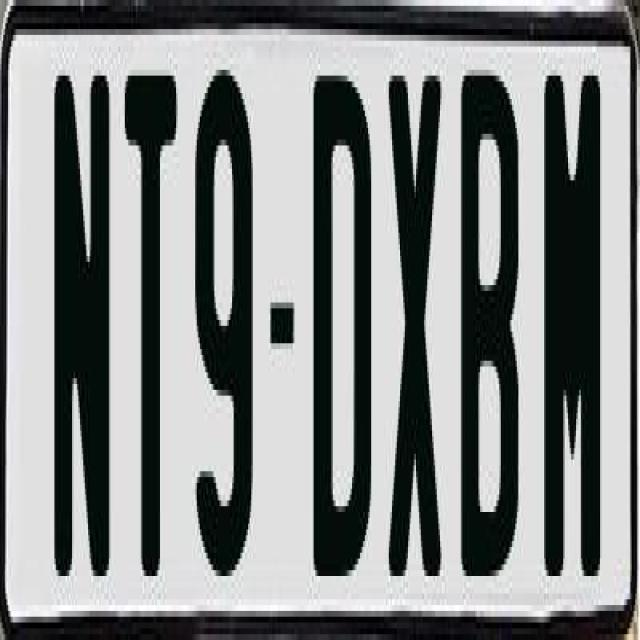9: (196, 70, 260, 606)
B: (456, 58, 515, 576)
D: (310, 76, 378, 612)
M: (544, 70, 602, 582)
N: (52, 64, 108, 576)
T: (123, 64, 176, 570)
X: (384, 76, 445, 612)
